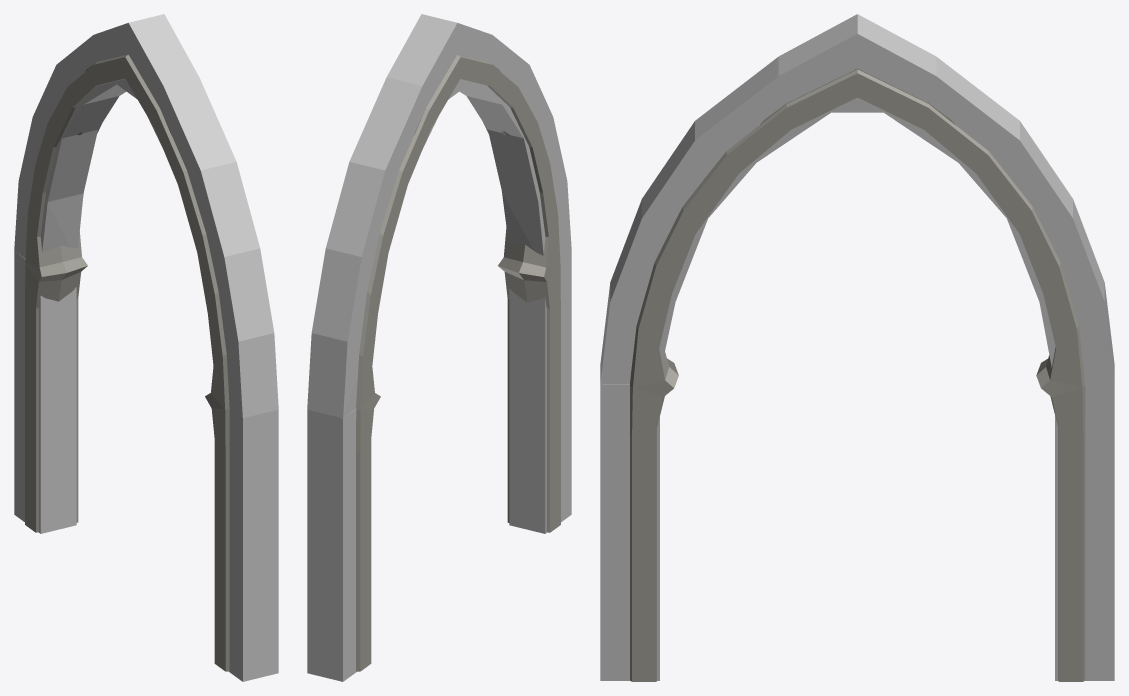
The model's file is SM_Bld_Arch_03.fbx.
The picture shows the model from 3 angles, left to right: view 1: azimuth 30°, elevation 25°; view 2: azimuth 150°, elevation 25°; view 3: azimuth 270°, elevation 25°; orthographic projection. The views are drawn at different scales.
Parts seen in each view (by area): view 1: SM_Bld_Arch_03_ConvexHulls, SM_Bld_Arch_03; view 2: SM_Bld_Arch_03_ConvexHulls, SM_Bld_Arch_03; view 3: SM_Bld_Arch_03_ConvexHulls, SM_Bld_Arch_03.
Part boxes in pixels (box(x1,y1,x2,y2)): SM_Bld_Arch_03_ConvexHulls: box(14, 14, 278, 681); SM_Bld_Arch_03: box(25, 54, 229, 671); SM_Bld_Arch_03_ConvexHulls: box(307, 14, 571, 681); SM_Bld_Arch_03: box(356, 54, 560, 671); SM_Bld_Arch_03_ConvexHulls: box(600, 14, 1114, 680); SM_Bld_Arch_03: box(630, 68, 1085, 681).
Bounding box in the file's own units: 41.58 × 355 × 493.
2 materials, 1 textured.
